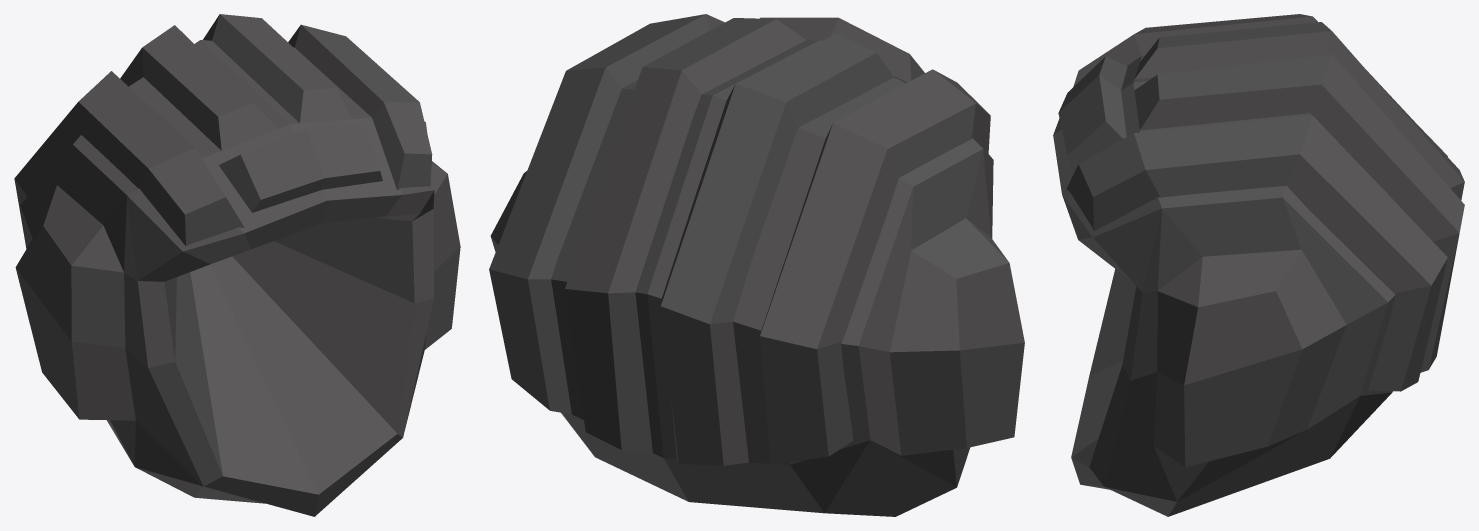
Rendered from SM_Chr_Attach_Helmet_11_Female.fbx.
The picture shows the model from 3 angles, left to right: view 1: azimuth 30°, elevation 25°; view 2: azimuth 150°, elevation 25°; view 3: azimuth 270°, elevation 25°; orthographic projection. The views are drawn at different scales.
Visible parts, largest first — view 1: SM_Chr_Attach_Helmet_11_Female; view 2: SM_Chr_Attach_Helmet_11_Female; view 3: SM_Chr_Attach_Helmet_11_Female.
Boxes of the visible parts, x1,y1,x2,y2 form: SM_Chr_Attach_Helmet_11_Female: (14,14,460,516); SM_Chr_Attach_Helmet_11_Female: (489,14,1024,516); SM_Chr_Attach_Helmet_11_Female: (1053,14,1464,516).
Size of the model in its own units: 33.1 by 34.15 by 28.13.
